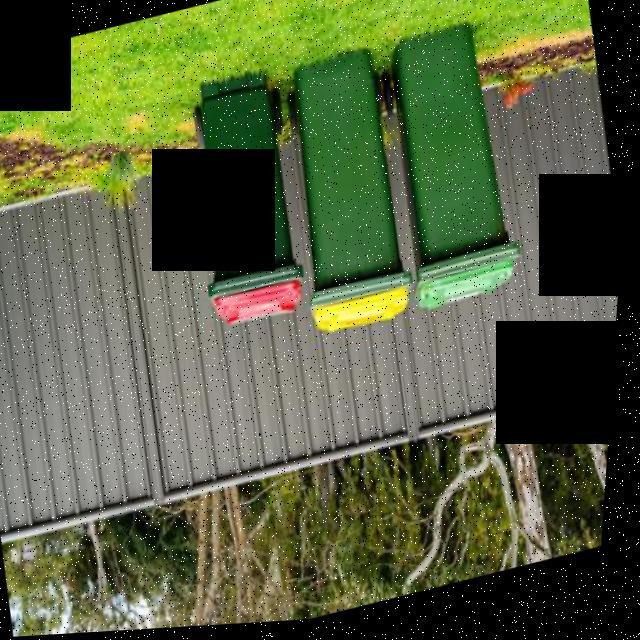bin: (363, 17, 551, 338), (254, 35, 434, 356), (163, 51, 331, 352)
